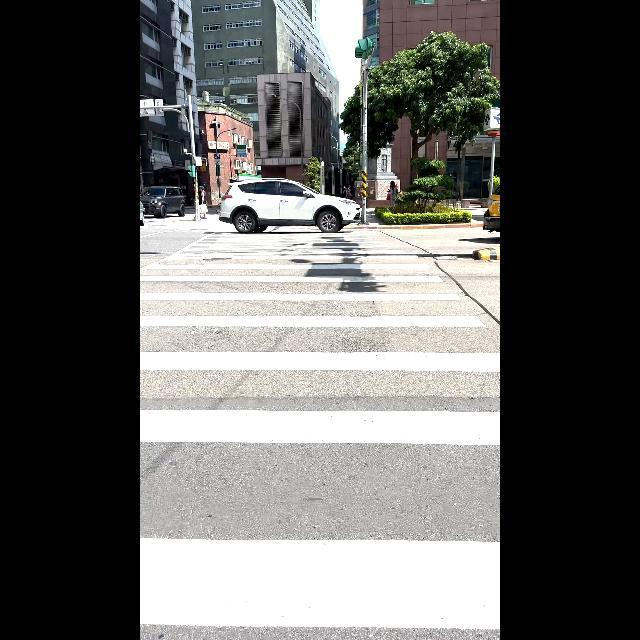sidewalk: (140, 245, 500, 640)
